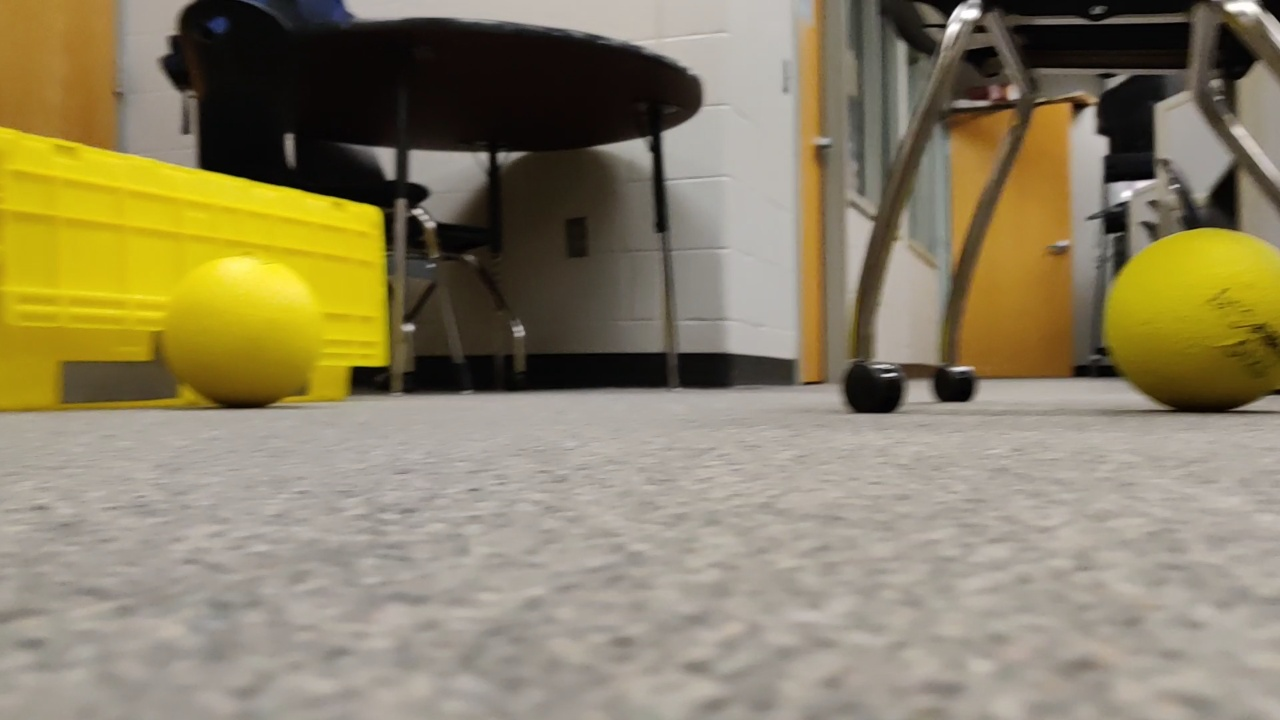Ball: (1072, 209, 1280, 403), (152, 258, 329, 424)
